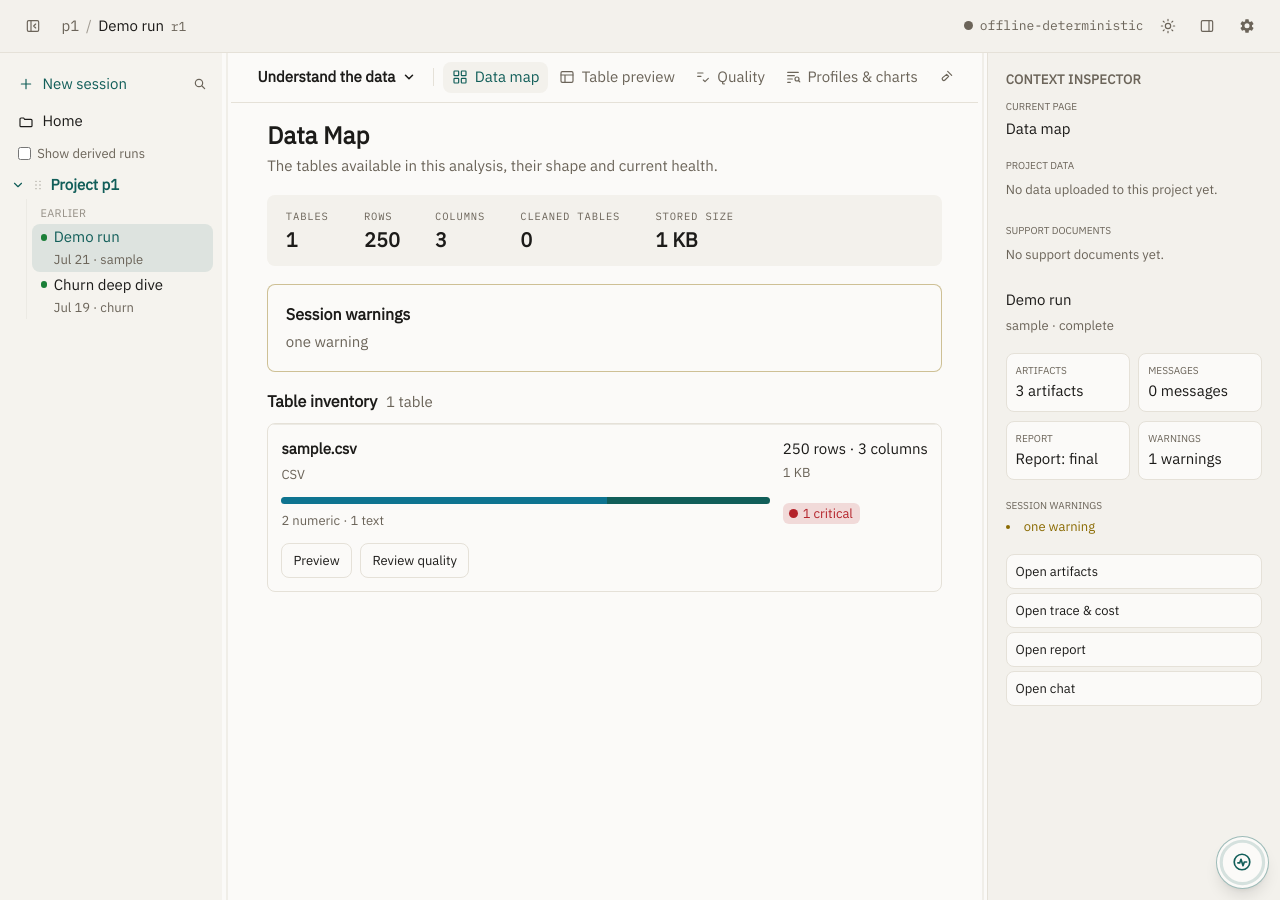
App Shell › can hide and restore the floating launcher from the panel
Check: the heading "Data Map" is shown, box [267,119,369,151]
Click the button named "Open activity". click: [1242, 862]
box: [1216,836,1269,889]
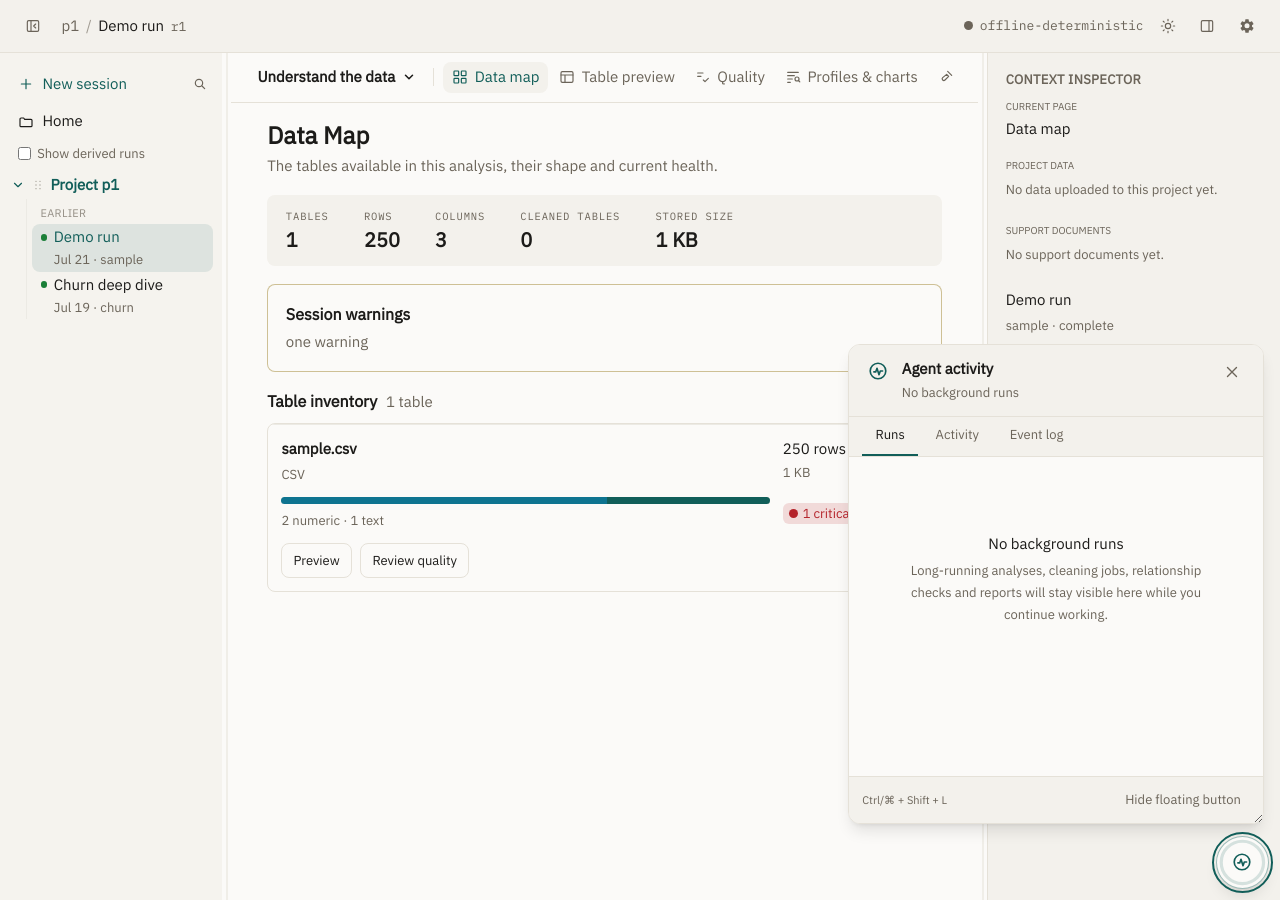
Click the button "Hide floating button". click: [1183, 800]
box: [1116,786,1250,814]
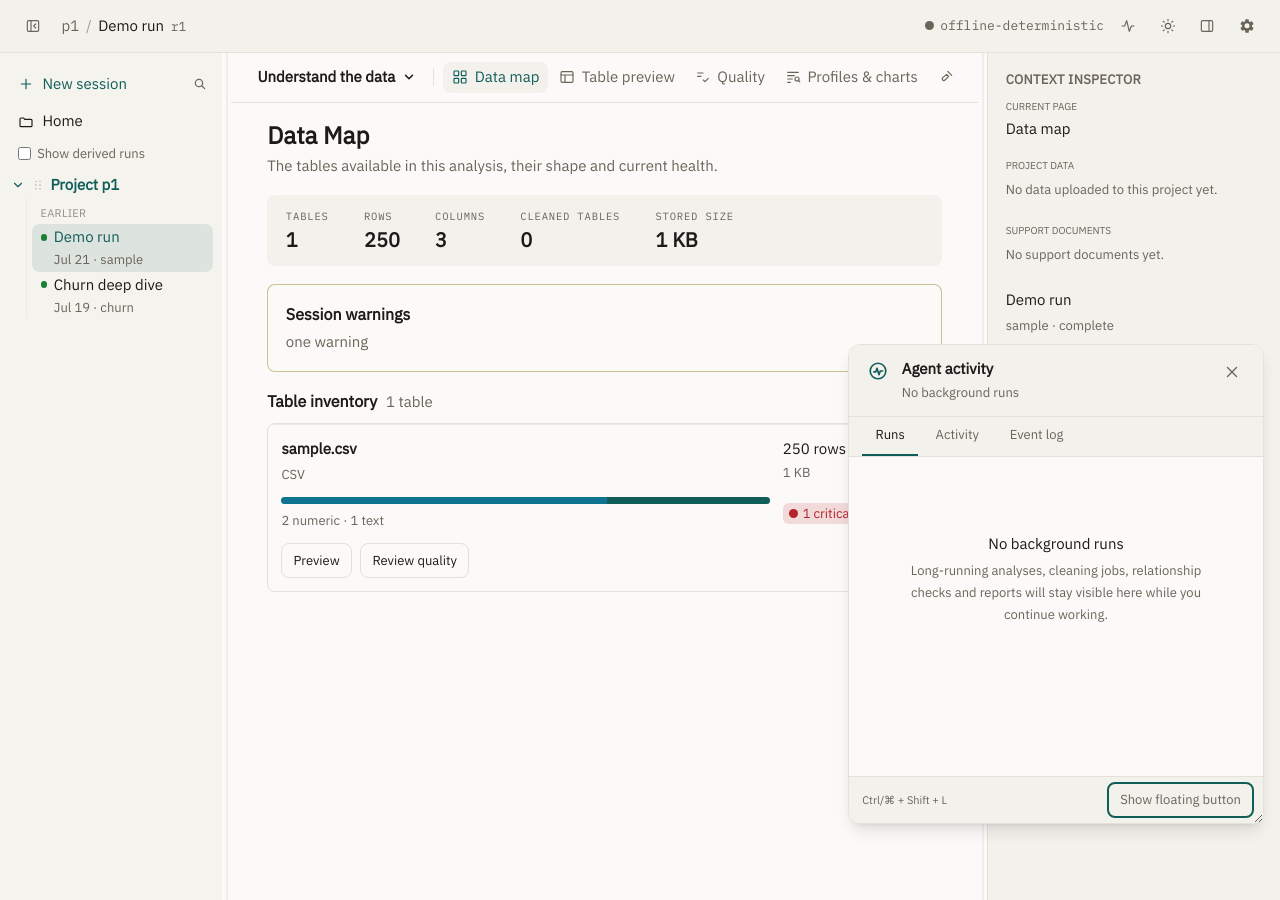
Click the button "Show floating button". click: [1181, 800]
box: [1111,786,1250,814]
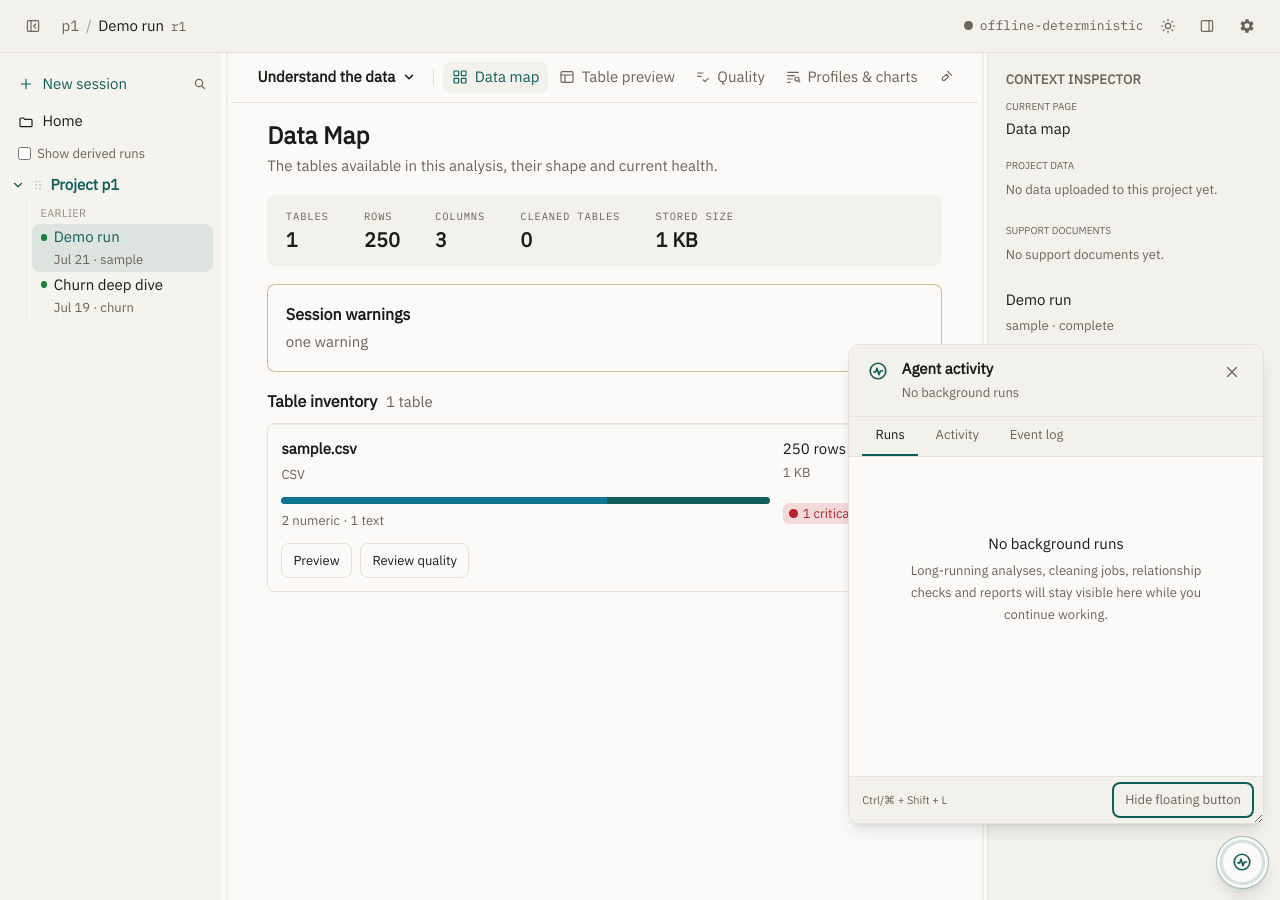
Check: the button named "Close activity from floating button" is shown, box [1216,836,1269,889]
